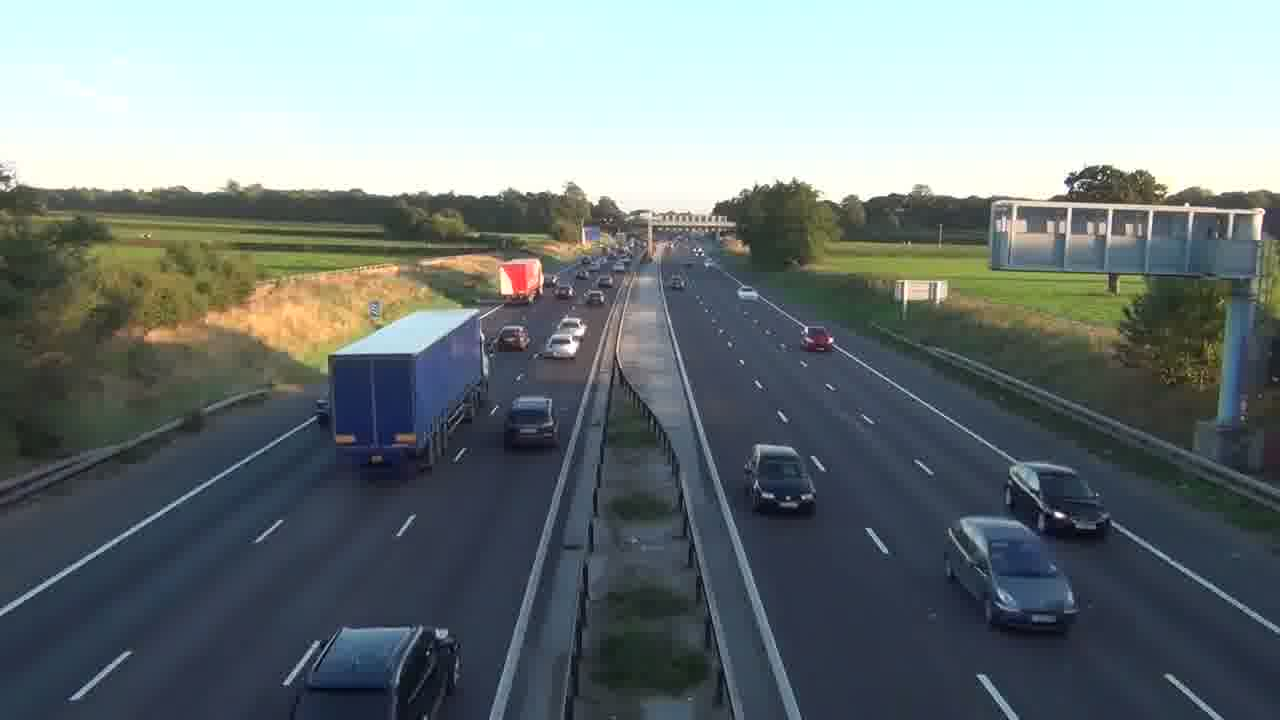car: (282, 623, 463, 717), (1003, 460, 1111, 538), (743, 443, 818, 514), (504, 394, 559, 451), (800, 324, 835, 353), (496, 324, 530, 352), (545, 332, 580, 359)
truck: (328, 306, 487, 479), (943, 514, 1081, 633), (1003, 460, 1111, 538), (496, 258, 544, 305)
